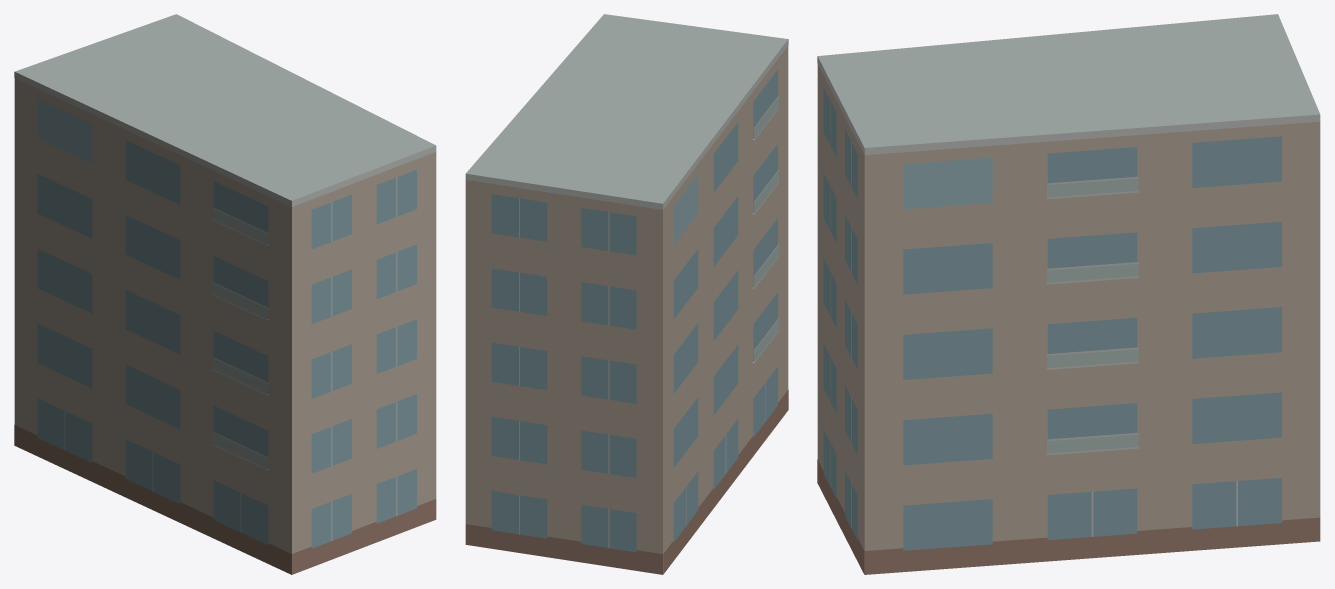
File: survey-upis-32843663.glb
3 views of the same model, side by side, from view 1: azimuth 30°, elevation 25°; view 2: azimuth 150°, elevation 25°; view 3: azimuth 270°, elevation 25° (orthographic). The views are drawn at different scales.
Visible parts, largest first — view 1: survey-upis-32843663.tmp; view 2: survey-upis-32843663.tmp; view 3: survey-upis-32843663.tmp.
Part boxes in pixels (x1,y1,x2,y2): survey-upis-32843663.tmp: [14, 14, 436, 574]; survey-upis-32843663.tmp: [465, 14, 788, 574]; survey-upis-32843663.tmp: [817, 14, 1320, 574].
Bounding box in the file's own units: 9.88 × 14.65 × 15.65.
